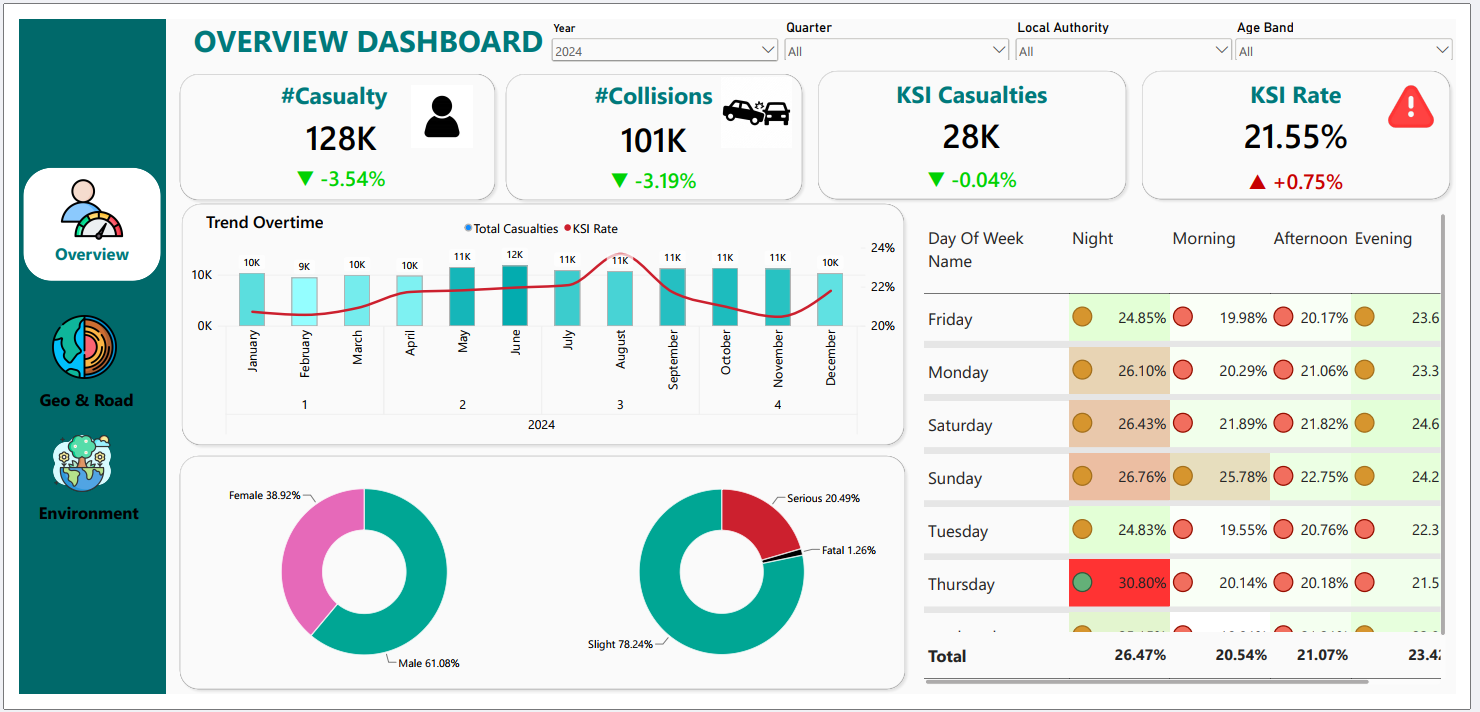

The dashboard page shown, as its layout file describes it:
{"tool":"powerbi","page":{"name":"Overview","canvas":[2300,1080],"ordinal":0},"visuals":[{"type":"shape","box":[250.4,691.2,1176.3,388.6],"z":0},{"type":"shape","box":[252,288.3,1174.3,400.9],"z":1000},{"type":"shape","box":[0,0,234.3,1081],"z":2000},{"type":"textbox","box":[280.5,0,564.6,65.1],"z":3000},{"type":"shape","box":[7.4,238,219.5,180.8],"z":4000},{"type":"image","box":[66.4,252.7,101.5,103.3],"z":5000},{"type":"image","box":[54.3,470.5,101.5,107],"z":6000},{"type":"image","box":[54.3,666,92.2,90.4],"z":7000},{"type":"textbox","box":[0,356,234.3,62.7],"z":8000},{"type":"textbox","box":[10.9,589.9,195.4,43.4],"z":9000},{"type":"textbox","box":[7.2,770.9,209.9,48.9],"z":10000},{"type":"slicer","fields":{"Values":["Dim Date.Date Hierarchy.Year"]},"box":[847.7,2.6,373,65.2],"z":11000},{"type":"slicer","fields":{"Values":["Dim Date.Date Hierarchy.Quarter"]},"box":[1220.7,0,370.4,65.2],"z":12000},{"type":"slicer","fields":{"Values":["Dim Road.Road Type"]},"box":[1591.1,0,357.3,65.2],"z":13000},{"type":"shape","box":[249.8,78.9,521.4,219.1],"z":14000},{"type":"shape","box":[771.2,78.9,490.8,219.1],"z":15000},{"type":"cardVisual","fields":{"Data":["Casualty Measures.Total Casualties"]},"box":[260.7,108.2,510.5,157.7],"z":16000},{"type":"cardVisual","fields":{"Data":["Collision Distinct Count.Total Collisions"]},"box":[778.9,110.3,475.4,157.7],"z":17000},{"type":"textbox","box":[260.7,96.4,488.6,61.3],"z":18000},{"type":"textbox","box":[300.2,304.5,1378.1,52.6],"z":19000},{"type":"shape","box":[1790,74.5,510.5,221.3],"z":20000},{"type":"cardVisual","fields":{"Data":["Measures.KSI Rate"]},"box":[1790.2,104.1,510.5,157.7],"z":21000},{"type":"textbox","box":[771.2,96.4,490.8,70.1],"z":22000},{"type":"textbox","box":[1790,94.2,510.5,67.9],"z":23000},{"type":"image","box":[2182.1,94.2,94.2,92],"z":24000},{"type":"image","box":[1115.2,94.2,131.5,111.7],"z":25000},{"type":"lineStackedColumnComboChart","fields":{"Category":["Dim Date.Date Hierarchy.Year","Dim Date.Date Hierarchy.Quarter","Dim Date.Date Hierarchy.Month Name"],"Y":["Casualty Measures.Total Casualties"],"Y2":["Measures.KSI Rate"]},"box":[259.1,300.9,1159.6,386.5],"z":26000},{"type":"image","box":[604.7,107.4,144.6,98.6],"z":27000},{"type":"shape","box":[1270.7,74.5,510.5,221.3],"z":28000},{"type":"cardVisual","fields":{"Data":["Casualty Measures.KSI Casualties"]},"box":[1269.9,104.1,510.5,157.7],"z":29000},{"type":"textbox","box":[1270.7,94.2,510.5,67.9],"z":30000},{"type":"donutChart","fields":{"Category":["Dim Casualty.Sex Of Casualty"],"Y":["Casualty Measures.Total Casualties"]},"box":[266,691.2,573.8,388.6],"z":31000},{"type":"slicer","fields":{"Values":["Dim Casualty.Age Band Of Casualty"]},"box":[1943.2,0,357.3,65.2],"z":32000},{"type":"donutChart","fields":{"Category":["Dim Casualty Severity.Casualty Severity"],"Y":["Casualty Measures.Total Casualties"]},"box":[845.1,691.2,560.8,388.6],"z":33000},{"type":"pivotTable","fields":{"Columns":["Dim Time.Time Band"],"Rows":["Dim Date.Day Of Week Name"],"Values":["Measures.KSI Rate"]},"box":[1435.4,296.7,865.4,784.3],"z":34000},{"type":"cardVisual","fields":{"Data":["Measures.Casualties YoY %"]},"box":[261.2,215.2,509.8,75.2],"z":35000},{"type":"cardVisual","fields":{"Data":["Measures.Collisions YoY %"]},"box":[762.5,218.2,509.8,75.2],"z":36000},{"type":"cardVisual","fields":{"Data":["Measures.KSI Casualties YoY %"]},"box":[1272.3,216,509.8,75.2],"z":37000},{"type":"cardVisual","fields":{"Data":["Measures.KSI Rate YoY %"]},"box":[1790.7,220.3,509.8,75.2],"z":38000}]}

Visuals, with their boxes in screenshot pixels (x1, y1, x2, y2), scaled from the page's 2300x1080 canvas onto the 1480x712 screenshot:
shape: pyautogui.locateOnScreen(161, 456, 918, 711)
shape: pyautogui.locateOnScreen(162, 190, 918, 454)
shape: pyautogui.locateOnScreen(0, 0, 151, 711)
textbox: pyautogui.locateOnScreen(180, 0, 544, 43)
shape: pyautogui.locateOnScreen(5, 157, 146, 276)
image: pyautogui.locateOnScreen(43, 167, 108, 235)
image: pyautogui.locateOnScreen(35, 310, 100, 381)
image: pyautogui.locateOnScreen(35, 439, 94, 499)
textbox: pyautogui.locateOnScreen(0, 235, 151, 276)
textbox: pyautogui.locateOnScreen(7, 389, 133, 418)
textbox: pyautogui.locateOnScreen(5, 508, 140, 540)
slicer - Dim Date.Date Hierarchy.Year: pyautogui.locateOnScreen(545, 2, 785, 45)
slicer - Dim Date.Date Hierarchy.Quarter: pyautogui.locateOnScreen(785, 0, 1024, 43)
slicer - Dim Road.Road Type: pyautogui.locateOnScreen(1024, 0, 1254, 43)
shape: pyautogui.locateOnScreen(161, 52, 496, 196)
shape: pyautogui.locateOnScreen(496, 52, 812, 196)
cardVisual - Casualty Measures.Total Casualties: pyautogui.locateOnScreen(168, 71, 496, 175)
cardVisual - Collision Distinct Count.Total Collisions: pyautogui.locateOnScreen(501, 73, 807, 177)
textbox: pyautogui.locateOnScreen(168, 64, 482, 104)
textbox: pyautogui.locateOnScreen(193, 201, 1080, 235)
shape: pyautogui.locateOnScreen(1152, 49, 1479, 195)
cardVisual - Measures.KSI Rate: pyautogui.locateOnScreen(1152, 69, 1479, 173)
textbox: pyautogui.locateOnScreen(496, 64, 812, 110)
textbox: pyautogui.locateOnScreen(1152, 62, 1479, 107)
image: pyautogui.locateOnScreen(1404, 62, 1465, 123)
image: pyautogui.locateOnScreen(718, 62, 802, 136)
lineStackedColumnComboChart - Dim Date.Date Hierarchy.Year x Dim Date.Date Hierarchy.Quarter: pyautogui.locateOnScreen(167, 198, 913, 453)
image: pyautogui.locateOnScreen(389, 71, 482, 136)
shape: pyautogui.locateOnScreen(818, 49, 1146, 195)
cardVisual - Casualty Measures.KSI Casualties: pyautogui.locateOnScreen(817, 69, 1146, 173)
textbox: pyautogui.locateOnScreen(818, 62, 1146, 107)
donutChart - Dim Casualty.Sex Of Casualty x Casualty Measures.Total Casualties: pyautogui.locateOnScreen(171, 456, 540, 711)
slicer - Dim Casualty.Age Band Of Casualty: pyautogui.locateOnScreen(1250, 0, 1479, 43)
donutChart - Dim Casualty Severity.Casualty Severity x Casualty Measures.Total Casualties: pyautogui.locateOnScreen(544, 456, 905, 711)
pivotTable - Dim Time.Time Band x Dim Date.Day Of Week Name: pyautogui.locateOnScreen(924, 196, 1479, 711)
cardVisual - Measures.Casualties YoY %: pyautogui.locateOnScreen(168, 142, 496, 191)
cardVisual - Measures.Collisions YoY %: pyautogui.locateOnScreen(491, 144, 819, 193)
cardVisual - Measures.KSI Casualties YoY %: pyautogui.locateOnScreen(819, 142, 1147, 192)
cardVisual - Measures.KSI Rate YoY %: pyautogui.locateOnScreen(1152, 145, 1479, 195)
